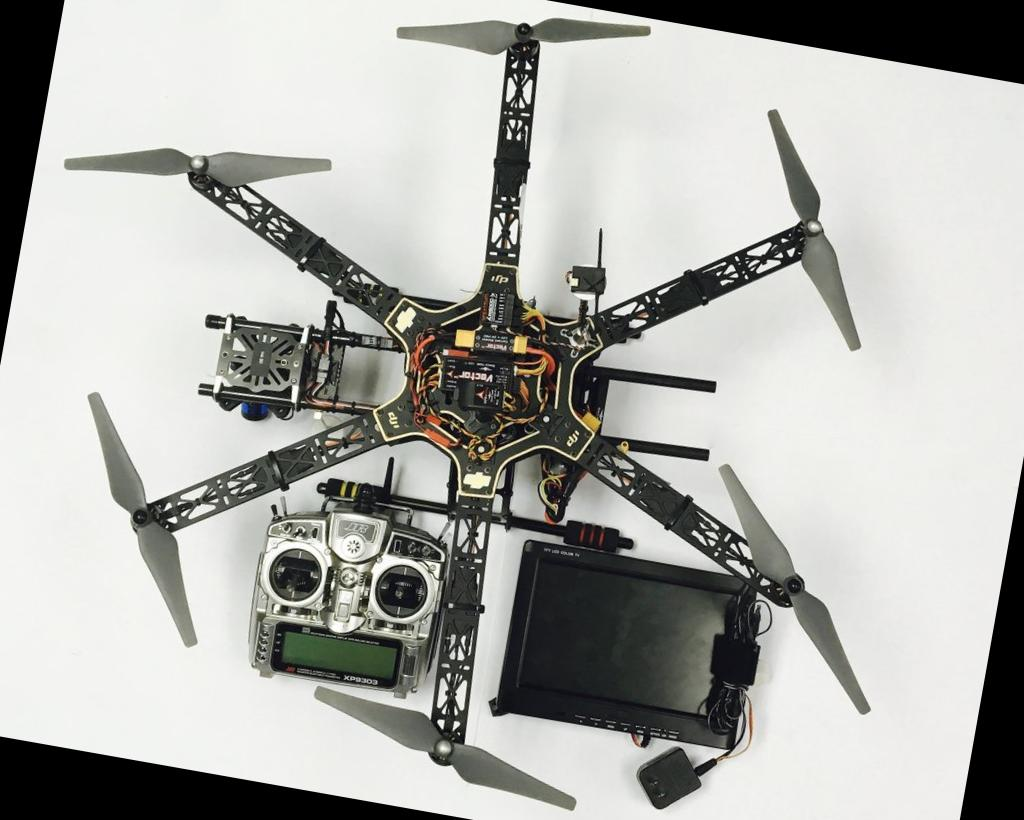drone: (0, 0, 1019, 820)
